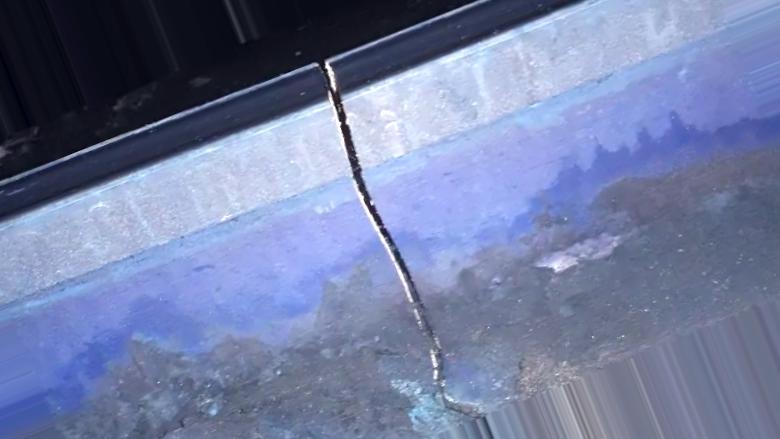tracks_fault: (369, 316, 511, 439)
